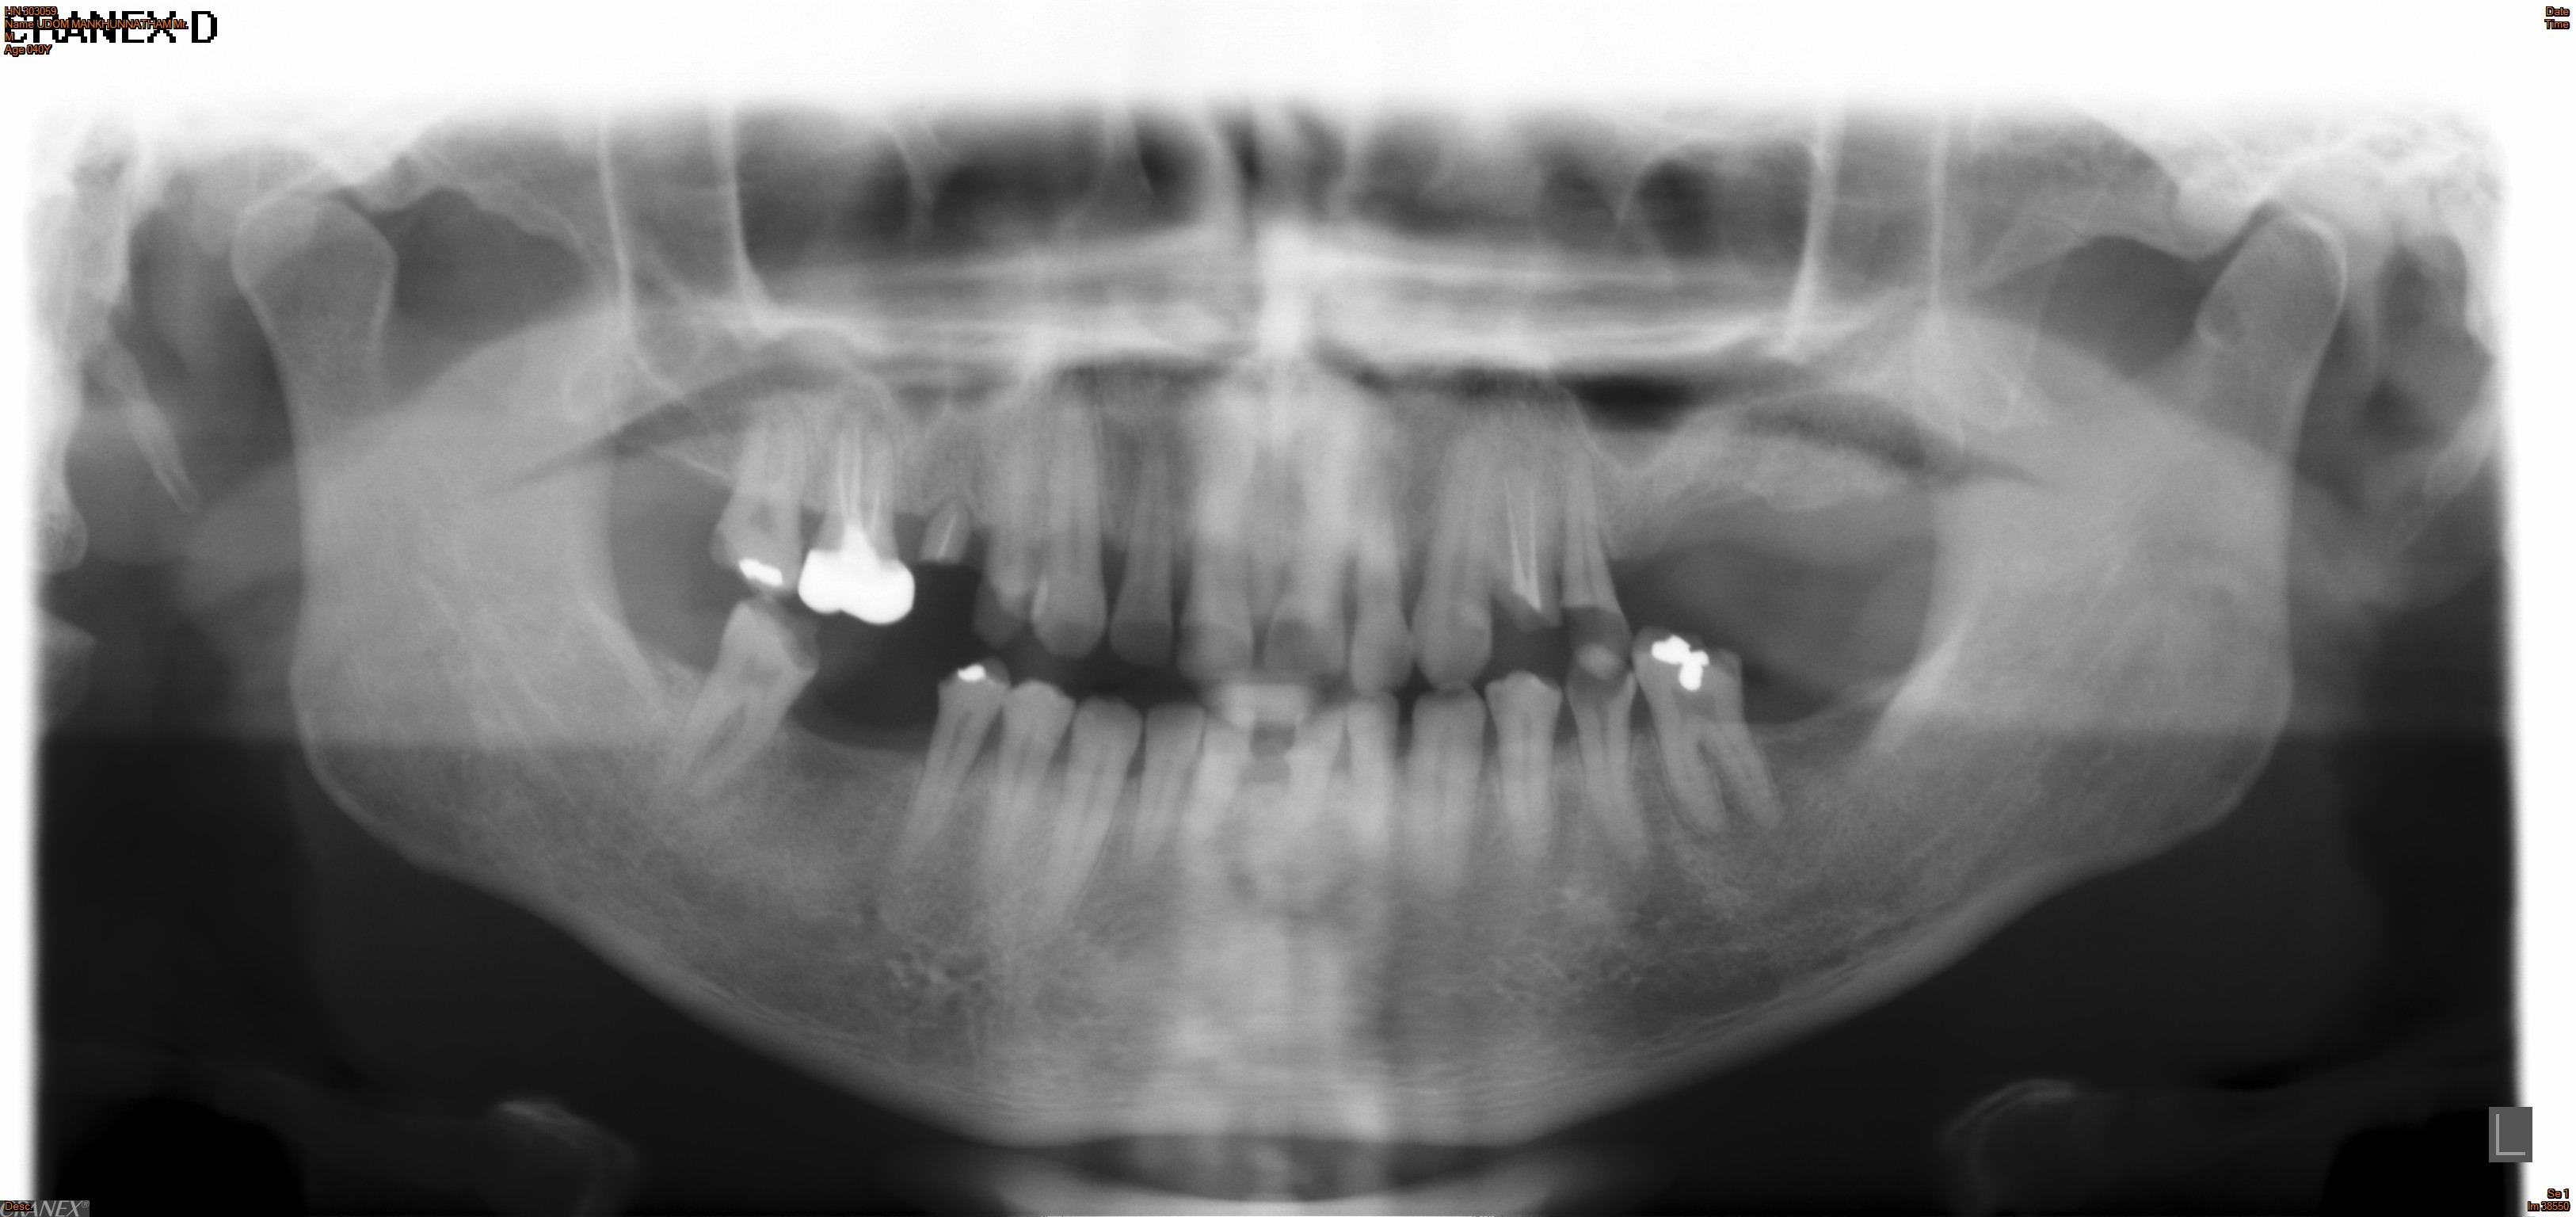periodontitis: (646, 588, 828, 811), (1620, 616, 1794, 846), (881, 655, 1025, 887), (797, 416, 925, 632), (706, 386, 815, 598)
